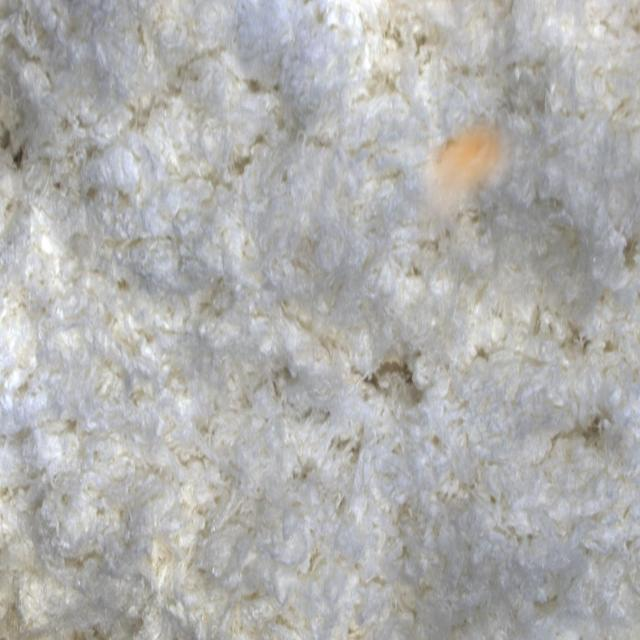dust: (410, 116, 527, 257)
